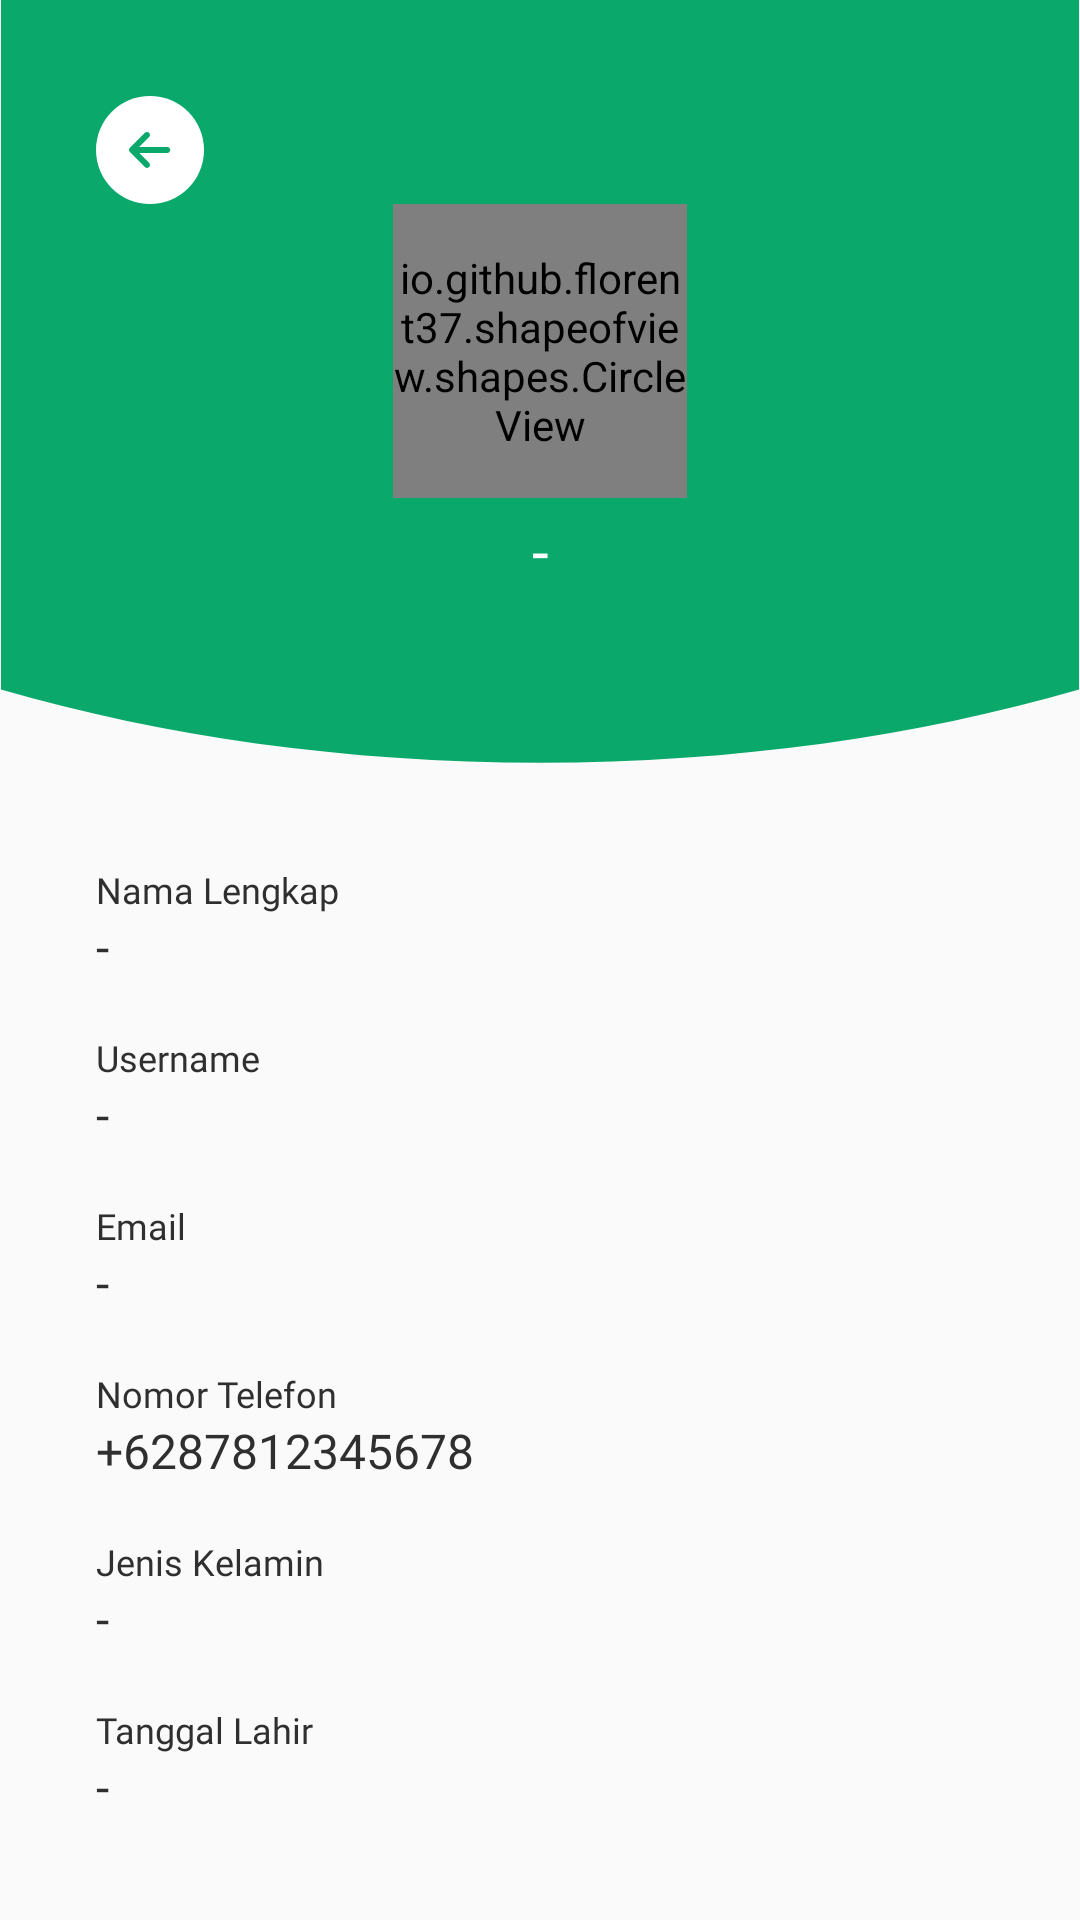

Icon click points for this 1080 × 1920 phone screenshot, format (x=x, y=y):
kembali bgputih: (x=150, y=150)
